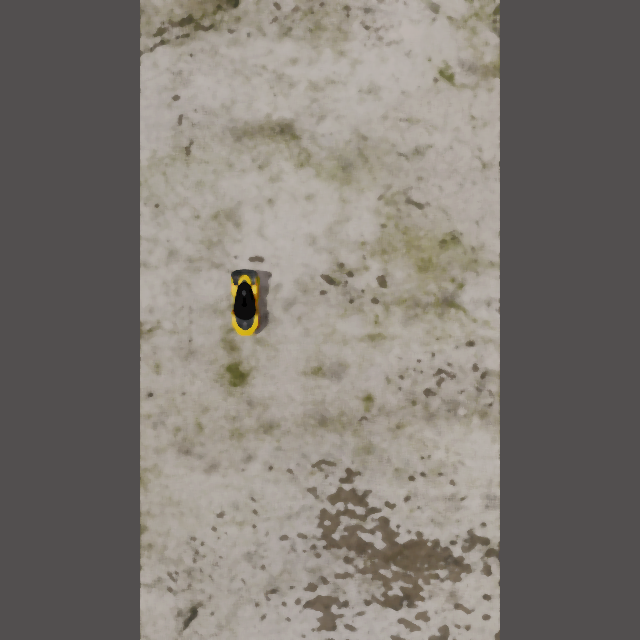car: (227, 269, 260, 337)
